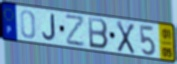0: (19, 9, 37, 40)
5: (138, 23, 158, 57)
B: (87, 16, 110, 51)
J: (41, 13, 57, 43)
X: (116, 19, 136, 56)
Z: (64, 15, 86, 49)
